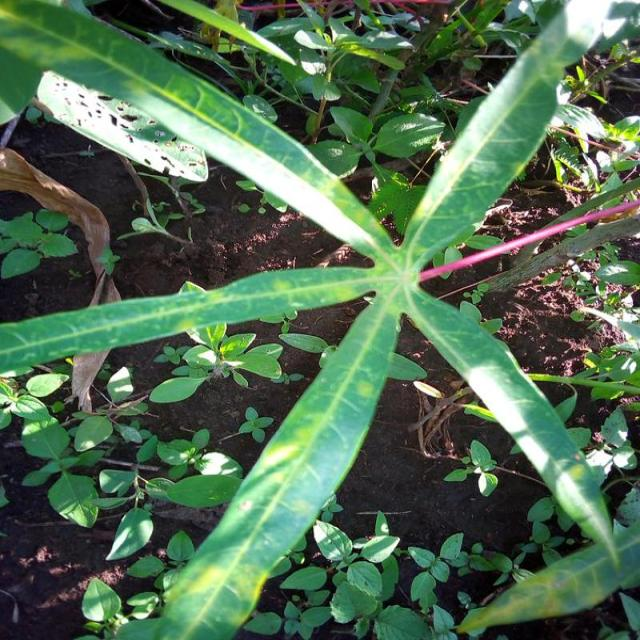cassava leaf: (1, 0, 634, 638)
